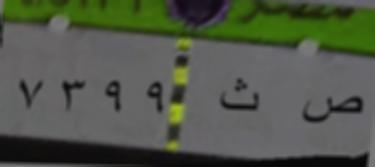3: (58, 74, 88, 118)
7: (14, 72, 49, 118)
9: (103, 70, 131, 114), (144, 73, 171, 118)
saad: (298, 83, 368, 129)
thaa: (212, 73, 267, 122)
